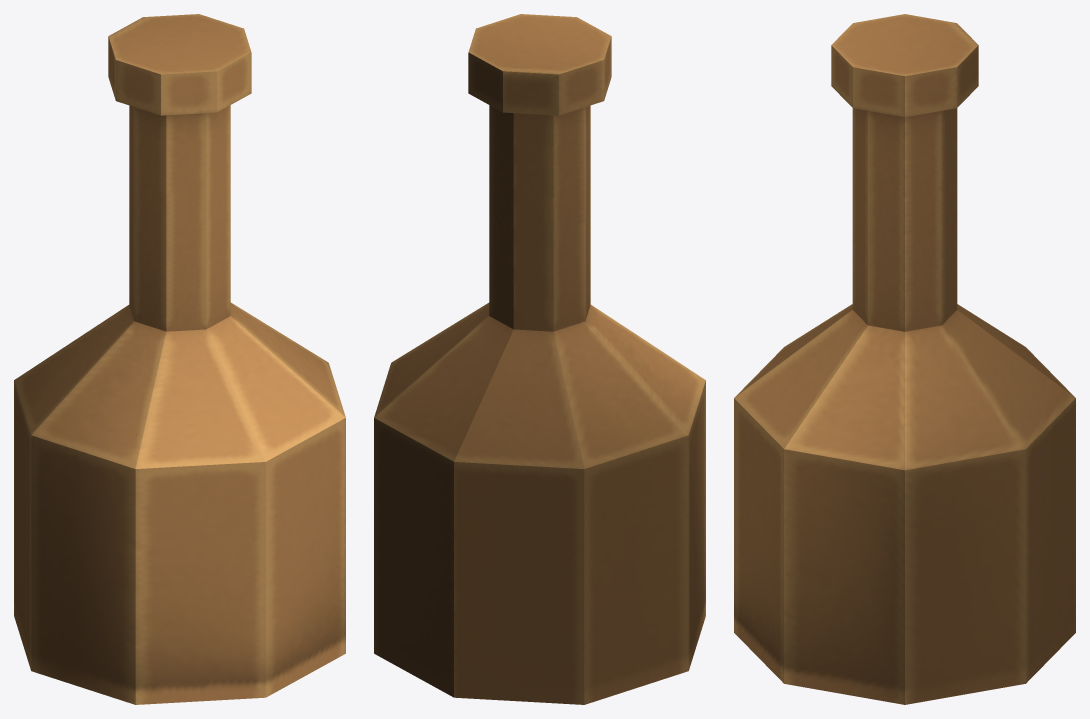
Rendered from bar_mesh.006_lev1.glb.
The picture shows the model from 3 angles, left to right: view 1: azimuth 30°, elevation 25°; view 2: azimuth 150°, elevation 25°; view 3: azimuth 270°, elevation 25°; orthographic projection.
Parts seen in each view (by area): view 1: bar_mesh.006_lev1; view 2: bar_mesh.006_lev1; view 3: bar_mesh.006_lev1.
Part boxes in pixels (x1,y1,x2,y2): bar_mesh.006_lev1: (14, 14, 345, 704); bar_mesh.006_lev1: (374, 14, 705, 704); bar_mesh.006_lev1: (734, 14, 1075, 704).
Bounding box in the file's own units: 0.7875 × 1.49 × 0.7875.
Materials: 1 (1 with a texture image).
